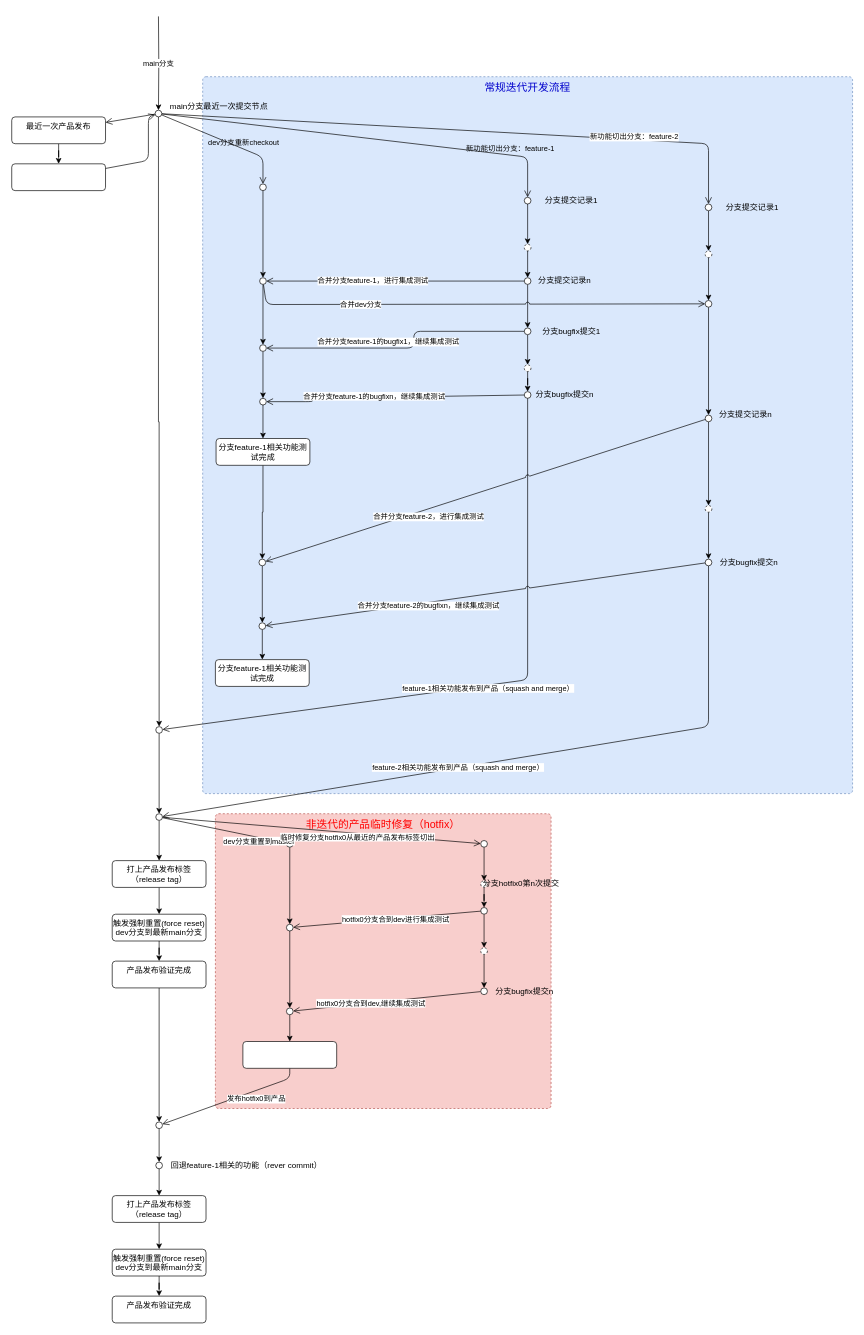
This 864x1335 diagram has some shape labels left out. Each missing label, with the centre of its shape:
"分支hotfix0相关功能测试完成" goes at point (289, 1054).
"强制重置(force reset) dev分支到最新main分支" goes at point (58, 177).
